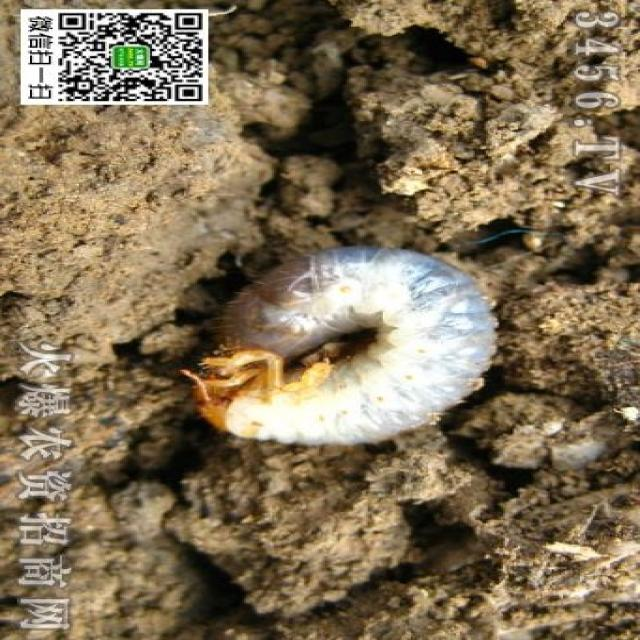grub: (182, 246, 507, 445)
